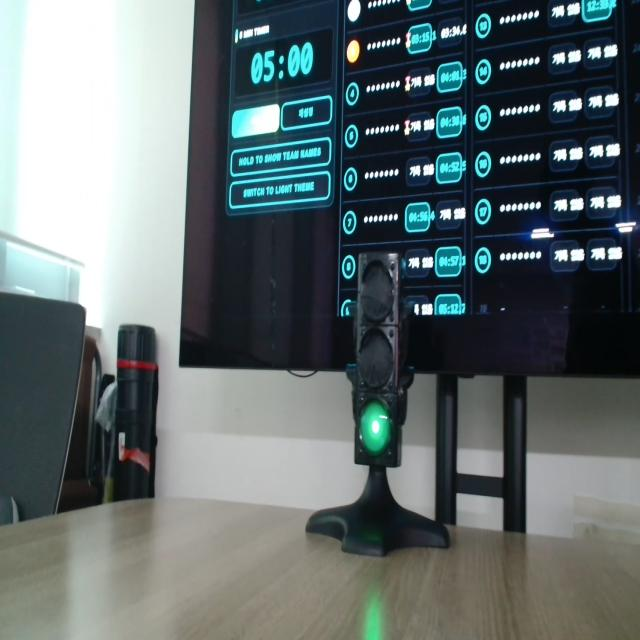green_light: (360, 400, 390, 456)
